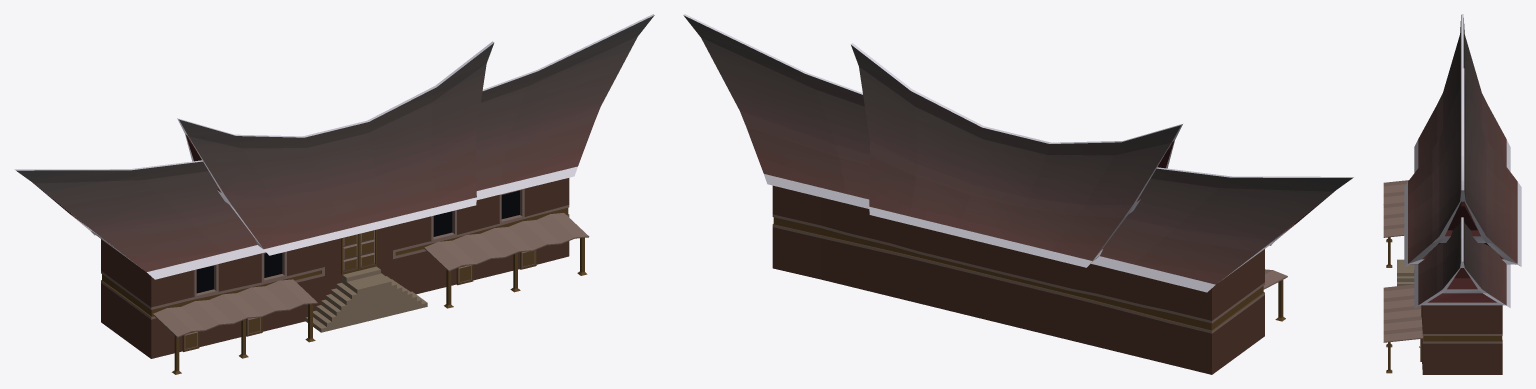
File: gedung pasar.fbx
3 views of the same model, side by side, from view 1: azimuth 30°, elevation 25°; view 2: azimuth 150°, elevation 25°; view 3: azimuth 270°, elevation 25° (orthographic). The views are drawn at different scales.
Parts seen in each view (by area): view 1: pCube5.003, pCube28.003, Cube.098, Cube.090, Cube, Cube.004, Cube.095; view 2: Cube.098, pCube5.003, pCube28.003; view 3: pCube28.003, pCube5.003, Cube.098, Cube.090, Cube, Cube.004.
Part boxes in pixels (x1=…): pCube5.003: x1=14, y1=14, x2=654, y2=279; pCube28.003: x1=177, y1=41, x2=494, y2=255; Cube.098: x1=101, y1=178, x2=569, y2=358; Cube.090: x1=153, y1=213, x2=589, y2=337; Cube: x1=305, y1=266, x2=427, y2=332; Cube.004: x1=172, y1=238, x2=587, y2=374; Cube.095: x1=182, y1=250, x2=536, y2=351; Cube.098: x1=772, y1=185, x2=1264, y2=374; pCube5.003: x1=683, y1=14, x2=1353, y2=292; pCube28.003: x1=851, y1=43, x2=1182, y2=267; pCube28.003: x1=1404, y1=68, x2=1521, y2=266; pCube5.003: x1=1414, y1=14, x2=1510, y2=307; Cube.098: x1=1421, y1=305, x2=1502, y2=374; Cube.090: x1=1383, y1=180, x2=1423, y2=342; Cube: x1=1397, y1=259, x2=1414, y2=286; Cube.004: x1=1386, y1=237, x2=1392, y2=373.
Size of the model in its own units: 5955 by 1856 by 1405.
